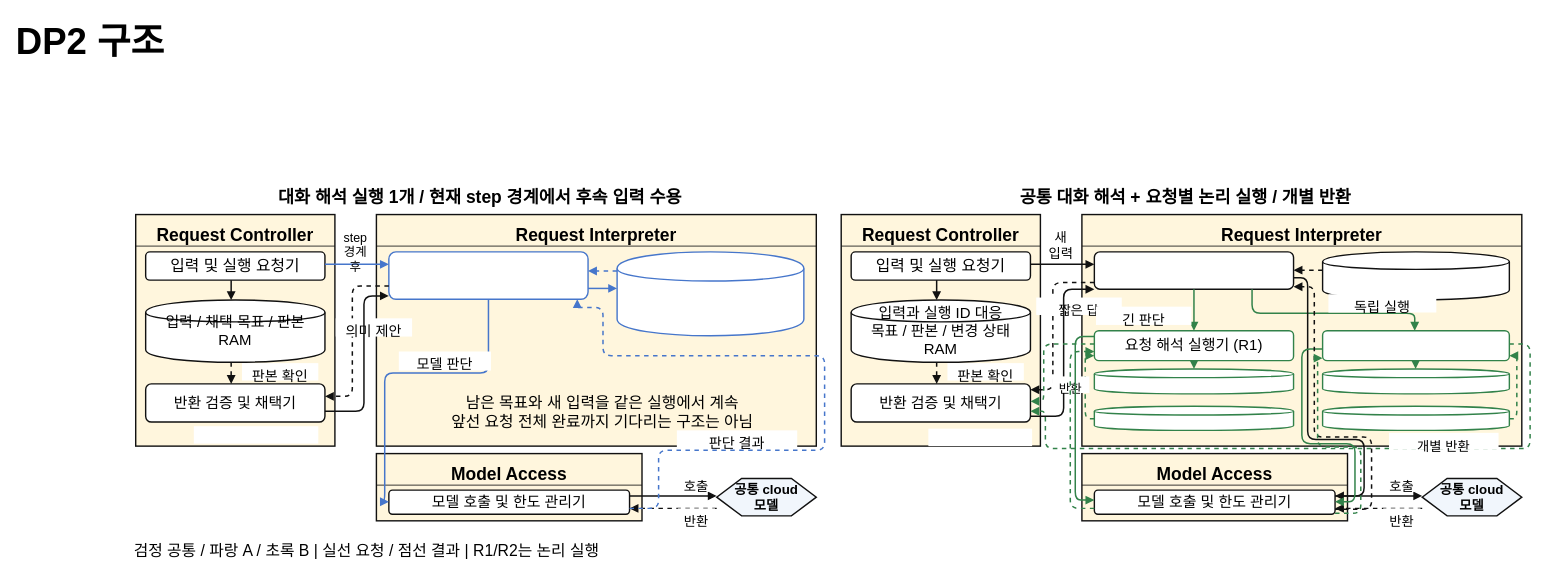
The diagram is 1551 pixels wide and 575 high, and some of its shapes have lost their labels. The shapes that lost their labels are listed below. From the top down, each one's centre as x and y in pixels, then its label:
pixel 488 275: 대화 해석 실행기
pixel 1193 270: 공통 대화 해석기
pixel 1416 275: 최근 문맥 / 요청 참조 RAM
pixel 710 293: 대화 문맥 / 근거 R1, R2 잠정 판단 RAM / 대화 수명
pixel 1416 345: 요청 해석 실행기 (R2)
pixel 1193 381: R1 가변 상태 (RAM)
pixel 1416 381: R2 가변 상태 (RAM)
pixel 255 434: 재판단 요청
pixel 980 437: 재결합 요청
pixel 1193 418: 불변 입력 사본 1 (RAM)
pixel 1416 418: 불변 입력 사본 2 (RAM)
